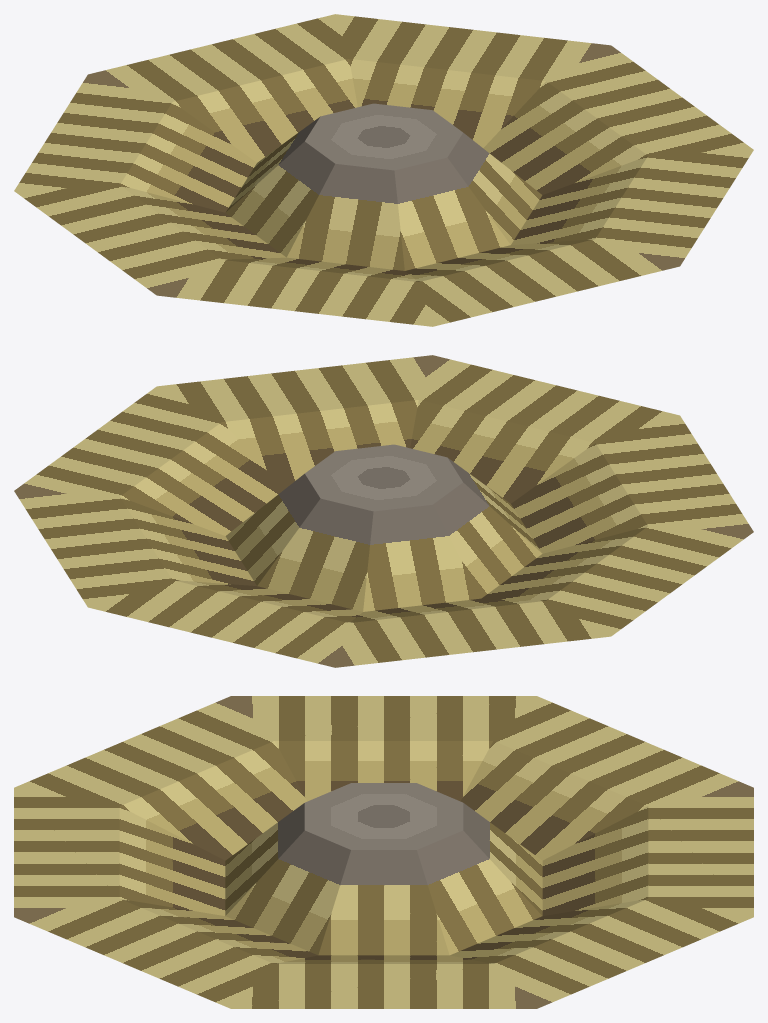
File: grand_centrifuge_wheel.obj
3 renders of one model, top to bottom at view 1: azimuth 30°, elevation 25°; view 2: azimuth 150°, elevation 25°; view 3: azimuth 270°, elevation 25°, orthographic. The views are drawn at different scales.
Parts seen in each view (by area): view 1: GRAND_CENTRIFUGE_WHEEL_Cylinder.000; view 2: GRAND_CENTRIFUGE_WHEEL_Cylinder.000; view 3: GRAND_CENTRIFUGE_WHEEL_Cylinder.000.
Boxes of the visible parts, <box> form: GRAND_CENTRIFUGE_WHEEL_Cylinder.000: <box>14,14,753,326</box>; GRAND_CENTRIFUGE_WHEEL_Cylinder.000: <box>14,355,753,667</box>; GRAND_CENTRIFUGE_WHEEL_Cylinder.000: <box>14,696,753,1008</box>.
Size of the model in its own units: 1.75 by 0.1875 by 1.75.
